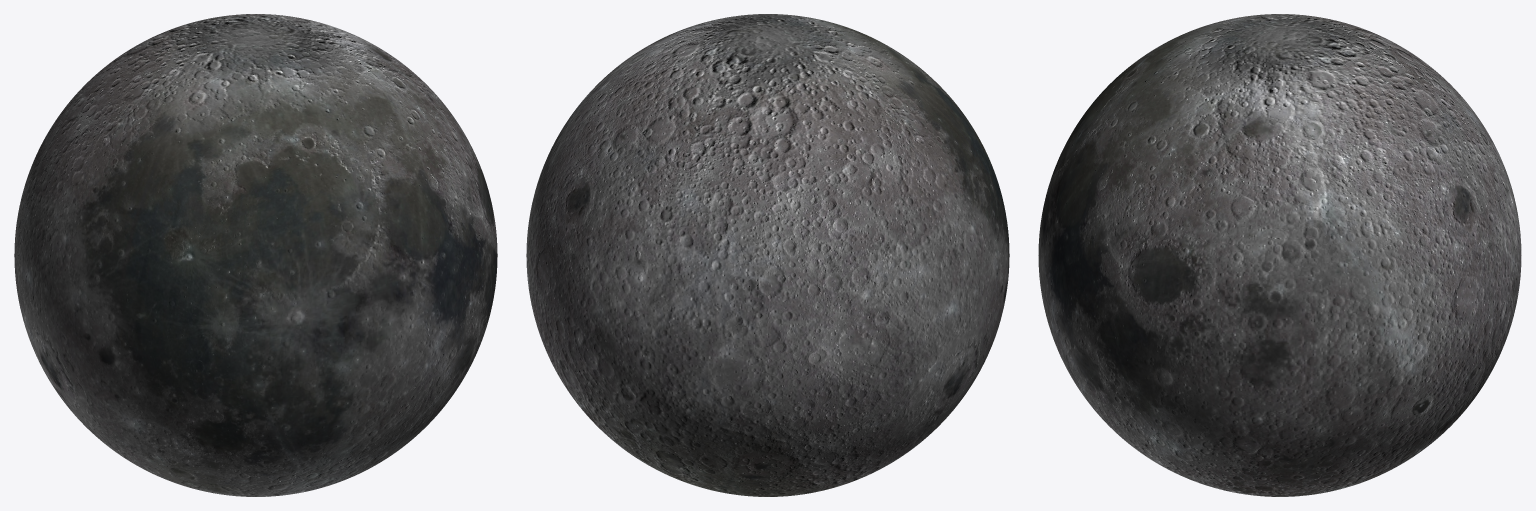
The model's file is moon.glb.
3 renders of one model, left to right at view 1: azimuth 30°, elevation 25°; view 2: azimuth 150°, elevation 25°; view 3: azimuth 270°, elevation 25°, orthographic.
Parts seen in each view (by area): view 1: moon_globe; view 2: moon_globe; view 3: moon_globe.
Boxes of the visible parts, x1=… form: moon_globe: x1=14, y1=14, x2=497, y2=496; moon_globe: x1=526, y1=14, x2=1009, y2=496; moon_globe: x1=1038, y1=14, x2=1521, y2=496.
Bounding box in the file's own units: 2 × 2 × 2.
Materials: 1 (1 with a texture image).
